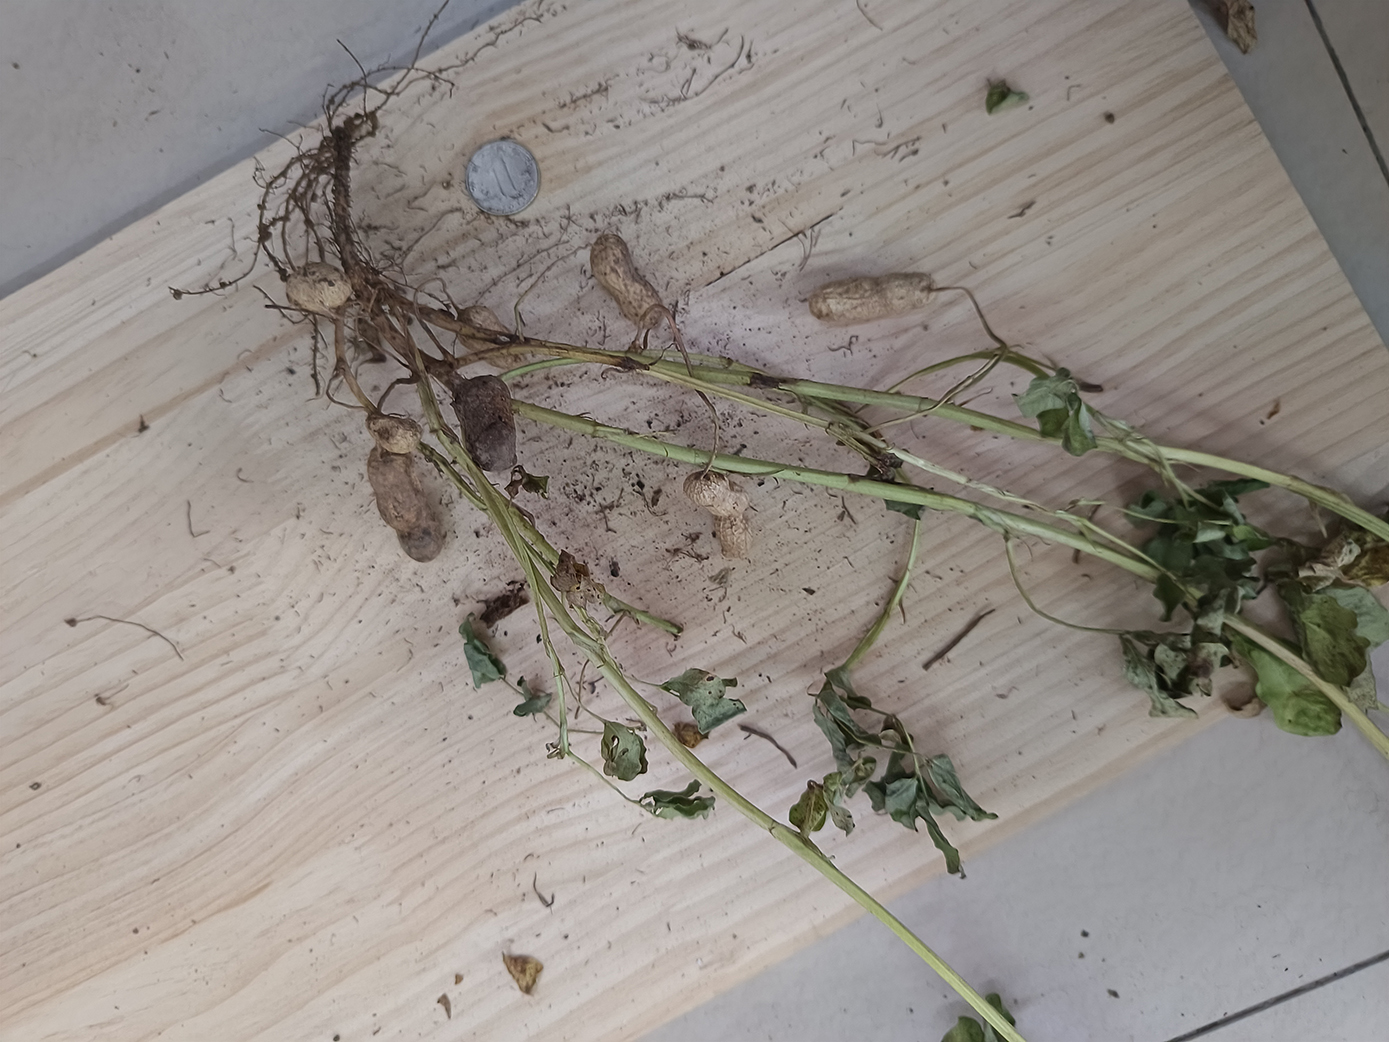h: (592, 233, 665, 331), (808, 273, 936, 327), (683, 468, 754, 560), (456, 306, 520, 369), (286, 263, 352, 310), (364, 412, 420, 455)
l: (367, 450, 445, 563), (453, 374, 518, 471)
